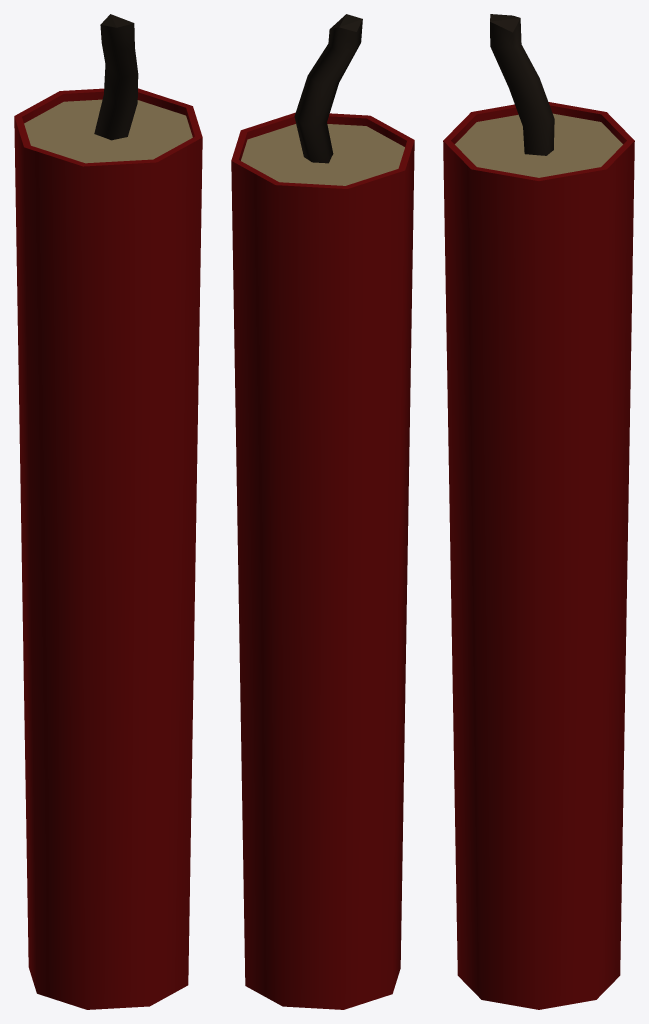
Rendered from dynamite.fbx.
The picture shows the model from 3 angles, left to right: view 1: azimuth 30°, elevation 25°; view 2: azimuth 150°, elevation 25°; view 3: azimuth 270°, elevation 25°; orthographic projection. The views are drawn at different scales.
Parts seen in each view (by area): view 1: Cylinder004, Line002; view 2: Cylinder004, Line002; view 3: Cylinder004, Line002.
Part boxes in pixels (x1=…): Cylinder004: x1=14, y1=88, x2=202, y2=1009; Line002: x1=94, y1=14, x2=138, y2=140; Cylinder004: x1=231, y1=112, x2=414, y2=1009; Line002: x1=294, y1=14, x2=362, y2=163; Cylinder004: x1=443, y1=102, x2=634, y2=1009; Line002: x1=490, y1=14, x2=554, y2=155.
Bounding box in the file's own units: 12.06 × 66.24 × 12.06.
